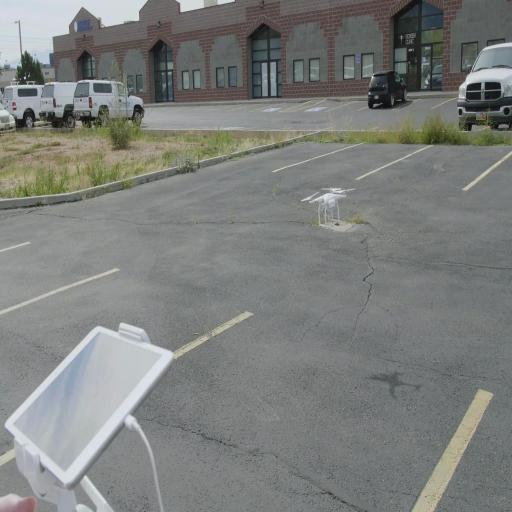drone: (300, 186, 357, 229)
